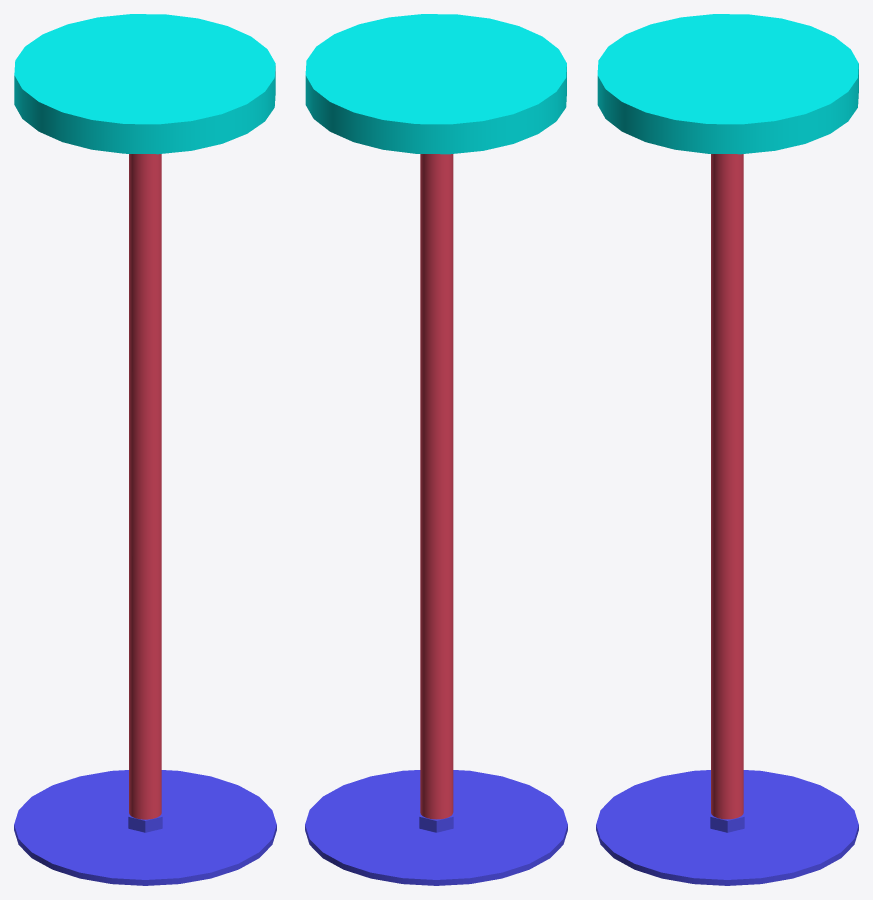
Rendered from octagon_signal.dae.
The picture shows the model from 3 angles, left to right: view 1: azimuth 30°, elevation 25°; view 2: azimuth 150°, elevation 25°; view 3: azimuth 270°, elevation 25°; orthographic projection.
Visible parts, largest first — view 1: instance_5, instance_3_001, instance_4; view 2: instance_5, instance_4, instance_3_001; view 3: instance_5, instance_3_001, instance_4.
Part boxes in pixels (<box>): instance_5: <box>14,14,275,154</box>; instance_3_001: <box>14,770,276,885</box>; instance_4: <box>129,154,161,819</box>; instance_5: <box>305,14,566,154</box>; instance_4: <box>420,154,453,819</box>; instance_3_001: <box>305,770,567,885</box>; instance_5: <box>597,14,858,154</box>; instance_3_001: <box>596,770,858,885</box>; instance_4: <box>711,154,743,819</box>.
Size of the model in its own units: 0.2 by 0.2 by 0.6392.
